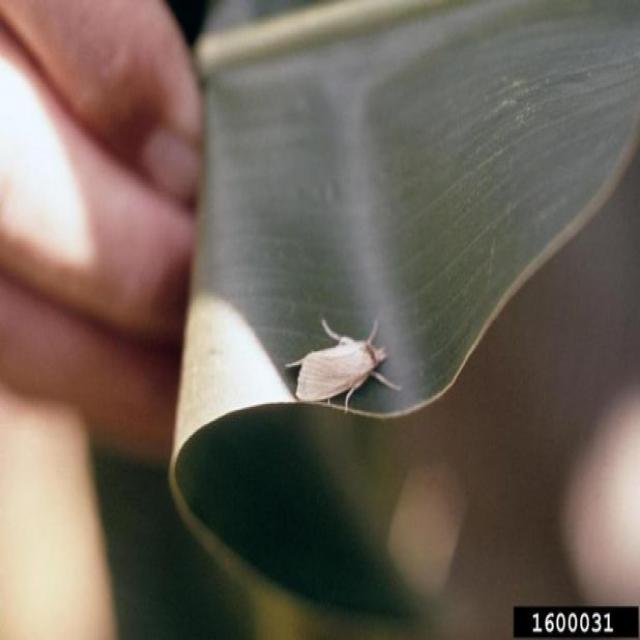cornborer-Adult-: (289, 306, 398, 419)
